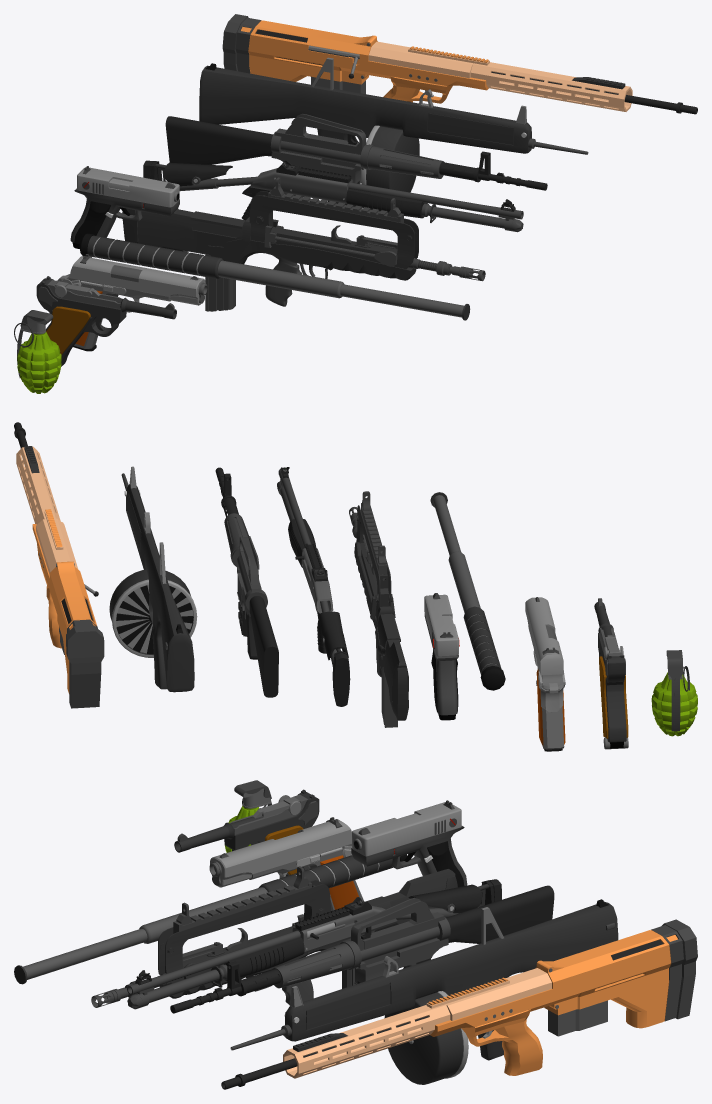
Rendered from weapon_pack_of_10100_part_5.glb.
3 renders of one model, top to bottom at view 1: azimuth 30°, elevation 25°; view 2: azimuth 150°, elevation 25°; view 3: azimuth 270°, elevation 25°, orthographic. The views are drawn at different scales.
Parts seen in each view (by area): view 1: Desert_Tech_SRS, Famas, AA12, Armalite_AR10, Benelli_M4, Telescopic_Baton, X13, Luger_P08, Government, MK2_Handbomb; view 2: AA12, Desert_Tech_SRS, Famas, Armalite_AR10, Benelli_M4, Government, Telescopic_Baton, Luger_P08, X13, MK2_Handbomb; view 3: Desert_Tech_SRS, AA12, Armalite_AR10, Famas, Benelli_M4, Government, X13, Telescopic_Baton, Luger_P08, MK2_Handbomb.
Boxes of the visible parts, <box> form: Desert_Tech_SRS: <box>222,14,697,114</box>; Famas: <box>122,177,485,311</box>; AA12: <box>199,57,588,192</box>; Armalite_AR10: <box>165,113,547,206</box>; Benelli_M4: <box>143,160,523,232</box>; Telescopic_Baton: <box>79,233,470,320</box>; X13: <box>70,166,179,248</box>; Luger_P08: <box>36,276,176,366</box>; Government: <box>57,254,207,351</box>; MK2_Handbomb: <box>14,310,61,393</box>; AA12: <box>109,466,197,692</box>; Desert_Tech_SRS: <box>14,422,104,708</box>; Famas: <box>349,491,408,727</box>; Armalite_AR10: <box>215,467,278,697</box>; Benelli_M4: <box>277,467,350,706</box>; Government: <box>525,597,565,751</box>; Telescopic_Baton: <box>430,492,505,690</box>; Luger_P08: <box>594,598,628,749</box>; X13: <box>424,593,459,720</box>; MK2_Handbomb: <box>651,650,697,736</box>; Desert_Tech_SRS: <box>221,919,697,1089</box>; AA12: <box>230,899,618,1084</box>; Armalite_AR10: <box>170,885,554,1013</box>; Famas: <box>91,866,457,1007</box>; Benelli_M4: <box>127,879,501,1009</box>; Government: <box>209,817,364,910</box>; X13: <box>351,800,467,887</box>; Telescopic_Baton: <box>14,854,407,984</box>; Luger_P08: <box>174,789,319,876</box>; MK2_Handbomb: <box>224,780,271,852</box>.
Size of the model in its own units: 78.08 by 19.22 by 60.2.
Materials: 2 (2 with a texture image).
